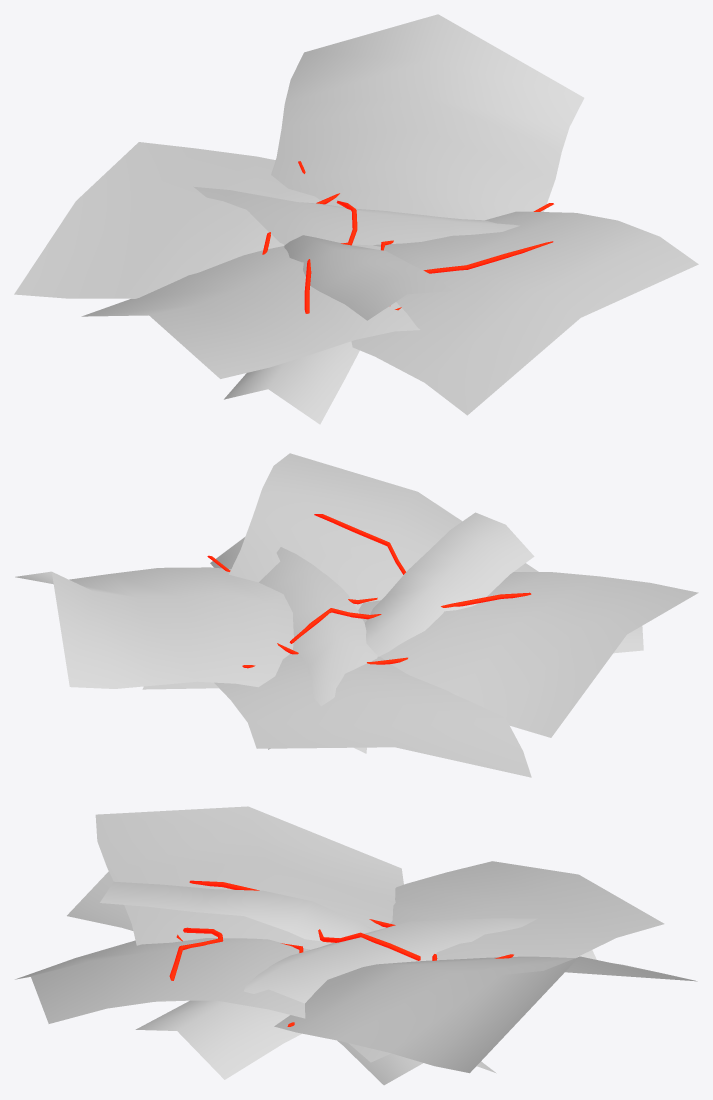
File: HerbRed.fbx
The picture shows the model from 3 angles, top to bottom: view 1: azimuth 30°, elevation 25°; view 2: azimuth 150°, elevation 25°; view 3: azimuth 270°, elevation 25°; orthographic projection. The views are drawn at different scales.
Parts seen in each view (by area): view 1: RedHerb; view 2: RedHerb; view 3: RedHerb.
Part boxes in pixels (<box>): RedHerb: <box>14,14,698,424</box>; RedHerb: <box>15,453,698,777</box>; RedHerb: <box>15,806,697,1085</box>.
Size of the model in its own units: 64.97 by 16.08 by 66.53.
